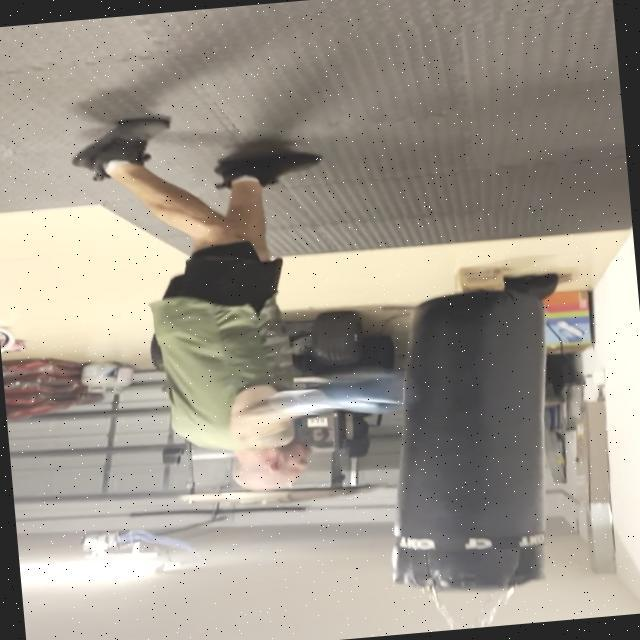bag: (357, 278, 610, 599)
hook: (141, 348, 445, 516)
